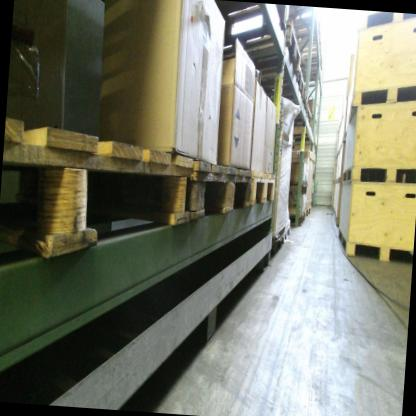pallet: (0, 117, 196, 267), (211, 1, 290, 58), (240, 16, 304, 80), (190, 159, 253, 221), (259, 64, 305, 101), (252, 173, 276, 207), (286, 208, 306, 229), (293, 109, 313, 125), (305, 204, 312, 219)
